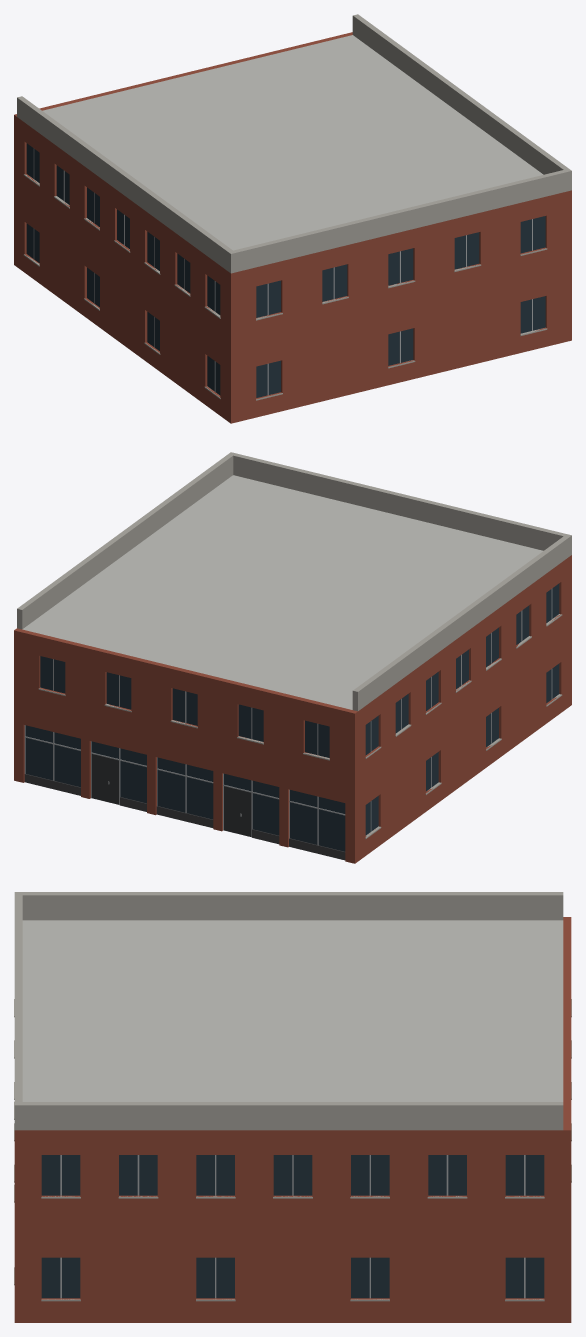
File: tf_dt_brick_2s_w19.glb
3 views of the same model, one above another, from view 1: azimuth 30°, elevation 25°; view 2: azimuth 150°, elevation 25°; view 3: azimuth 270°, elevation 25° (orthographic). The views are drawn at different scales.
Visible parts, largest first — view 1: tf_dt_brick_2s_w19-col; view 2: tf_dt_brick_2s_w19-col; view 3: tf_dt_brick_2s_w19-col.
Boxes of the visible parts, bbox=[...] form: tf_dt_brick_2s_w19-col: bbox=[14, 14, 571, 423]; tf_dt_brick_2s_w19-col: bbox=[14, 452, 571, 863]; tf_dt_brick_2s_w19-col: bbox=[14, 892, 571, 1322].
Size of the model in its own units: 19.66 by 9.32 by 21.66.
